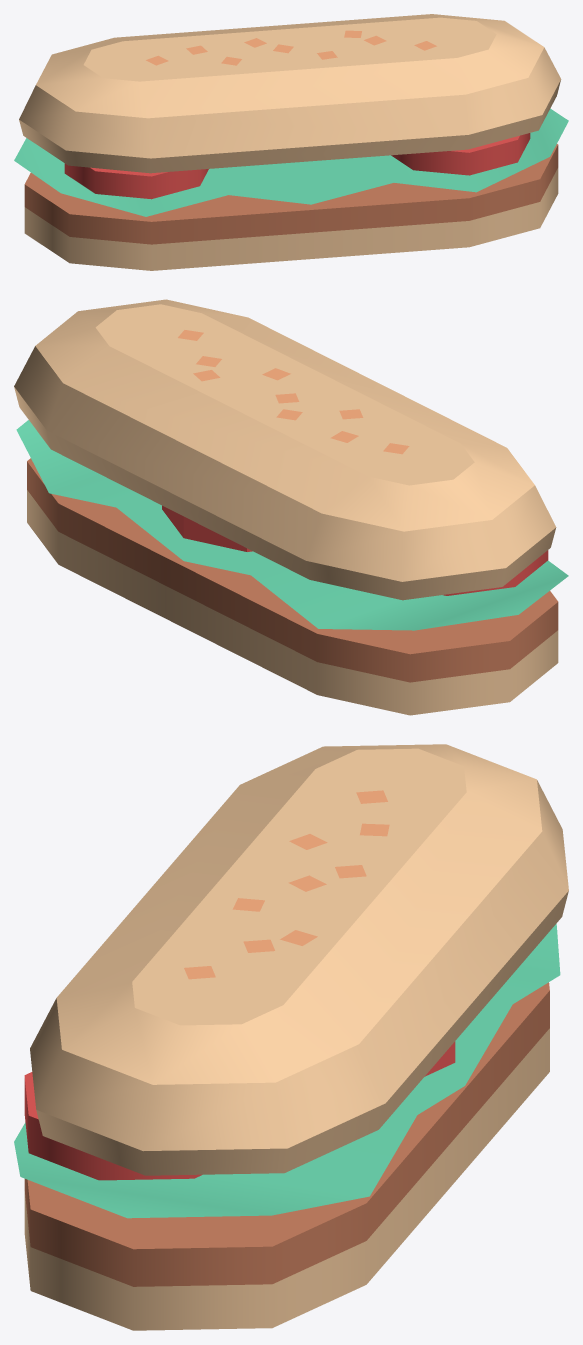
File: baguete.glb
3 renders of one model, top to bottom at view 1: azimuth 30°, elevation 25°; view 2: azimuth 150°, elevation 25°; view 3: azimuth 270°, elevation 25°, orthographic. The views are drawn at different scales.
Visible parts, largest first — view 1: sub, meat, lettuce, tomaties (×2); view 2: sub, meat, lettuce, Group, tomaties; view 3: sub, meat, lettuce, tomaties.
Boxes of the visible parts, x1,y1,x2,y2 form: sub: [19, 14, 561, 270]; meat: [24, 144, 558, 244]; lettuce: [14, 108, 568, 216]; tomaties (×2): [64, 133, 530, 199]; sub: [14, 299, 558, 715]; meat: [27, 458, 558, 682]; lettuce: [16, 420, 568, 630]; Group: [162, 505, 252, 551]; tomaties: [443, 550, 548, 595]; sub: [24, 744, 568, 1330]; meat: [24, 982, 549, 1286]; lettuce: [14, 924, 560, 1218]; tomaties: [24, 1072, 202, 1180].
Bounding box in the file's own units: 0.2349 × 0.0786 × 0.1482.
